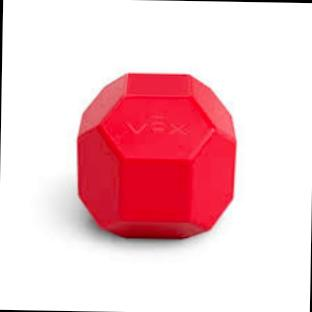V5_RED: (77, 74, 234, 236)
